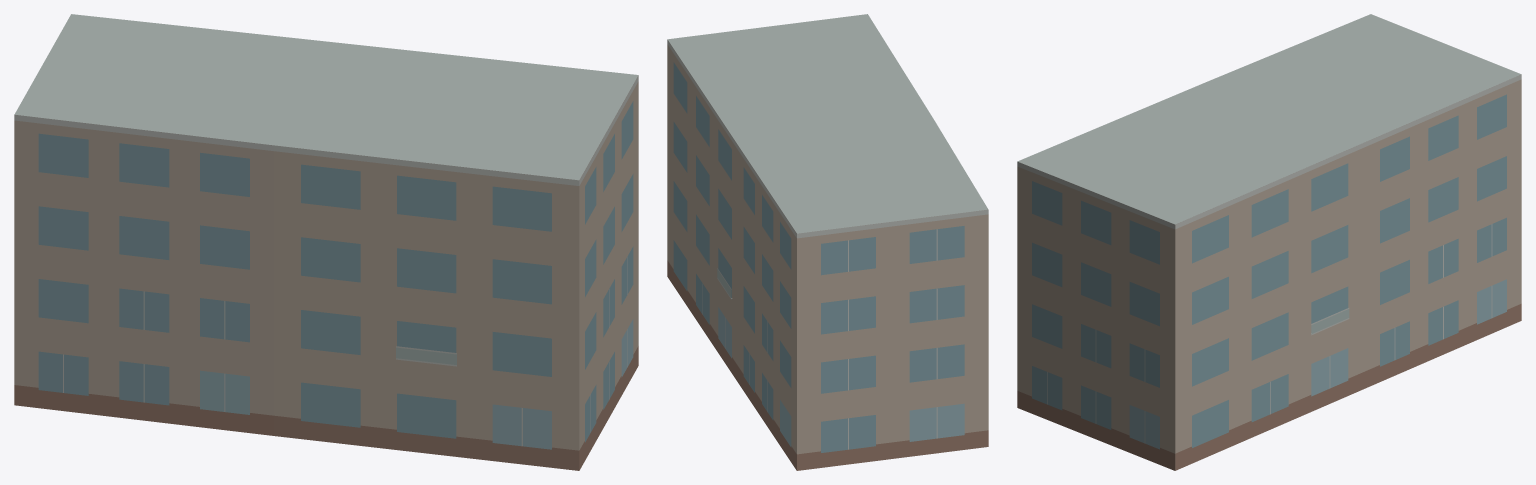
Rendered from survey-upis-32987319.glb.
3 views of the same model, side by side, from view 1: azimuth 30°, elevation 25°; view 2: azimuth 150°, elevation 25°; view 3: azimuth 270°, elevation 25° (orthographic). The views are drawn at different scales.
Visible parts, largest first — view 1: survey-upis-32987319.tmp; view 2: survey-upis-32987319.tmp; view 3: survey-upis-32987319.tmp.
Boxes of the visible parts, x1,y1,x2,y2 form: survey-upis-32987319.tmp: (14, 14, 638, 470); survey-upis-32987319.tmp: (667, 14, 988, 470); survey-upis-32987319.tmp: (1017, 14, 1521, 470).
Size of the model in its own units: 22.37 by 12.2 by 22.64.
